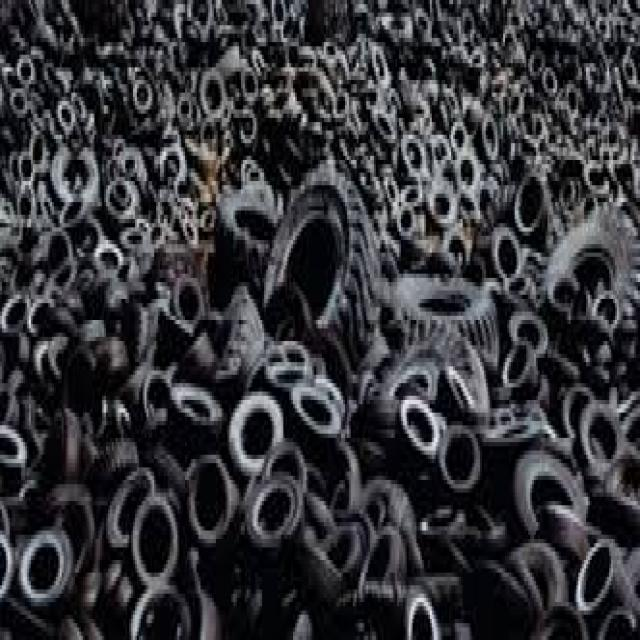Rubber -Non-Biodegradable but Recyclable-: (1, 7, 637, 633)
